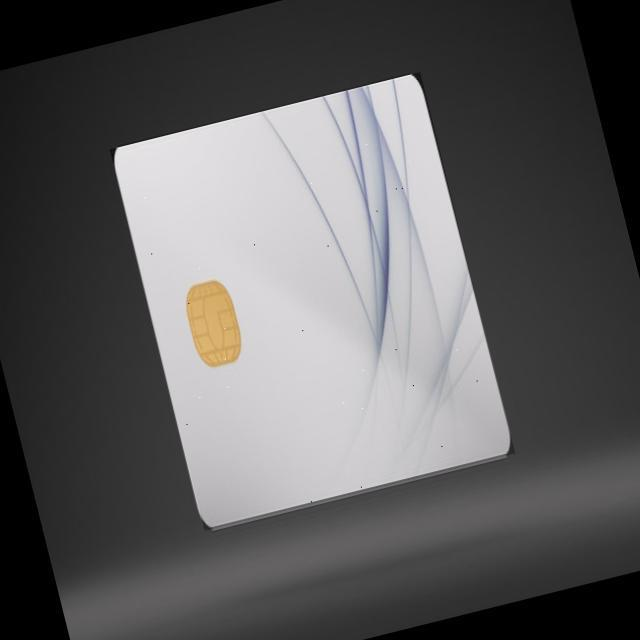payment_card: (111, 71, 513, 531)
